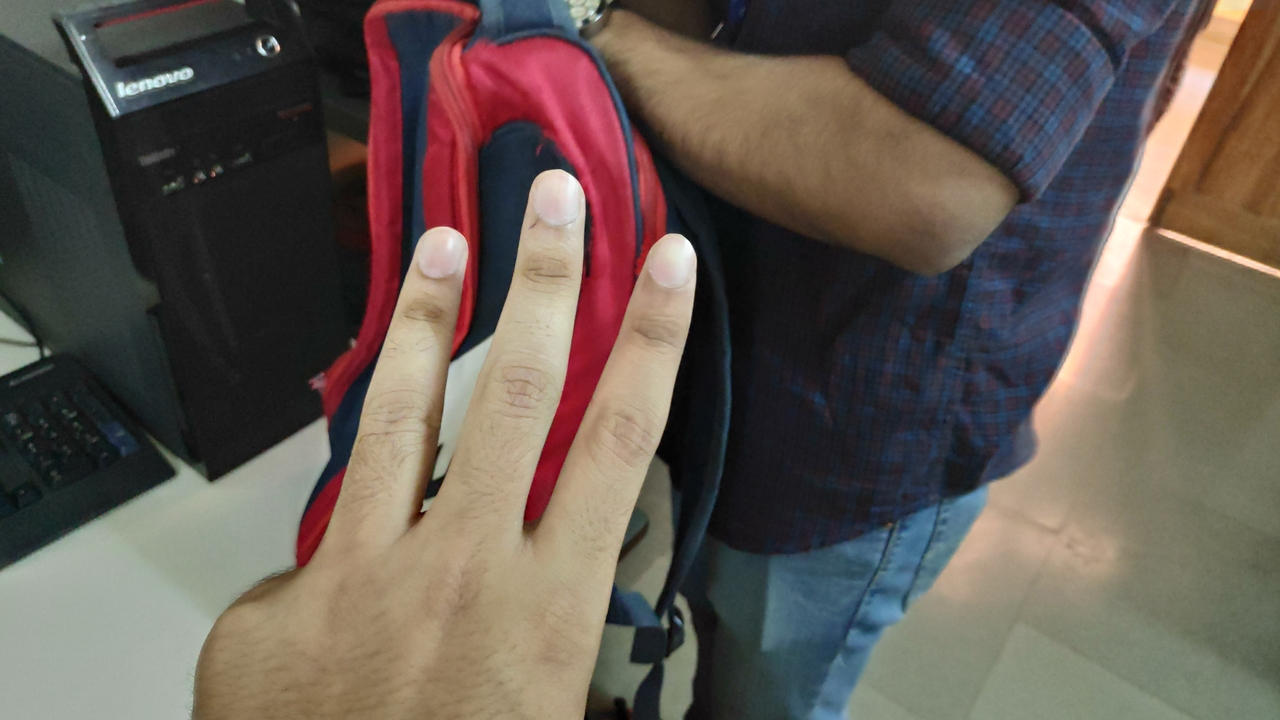fingertip: (514, 166, 592, 234), (400, 216, 468, 290), (636, 224, 704, 296)
